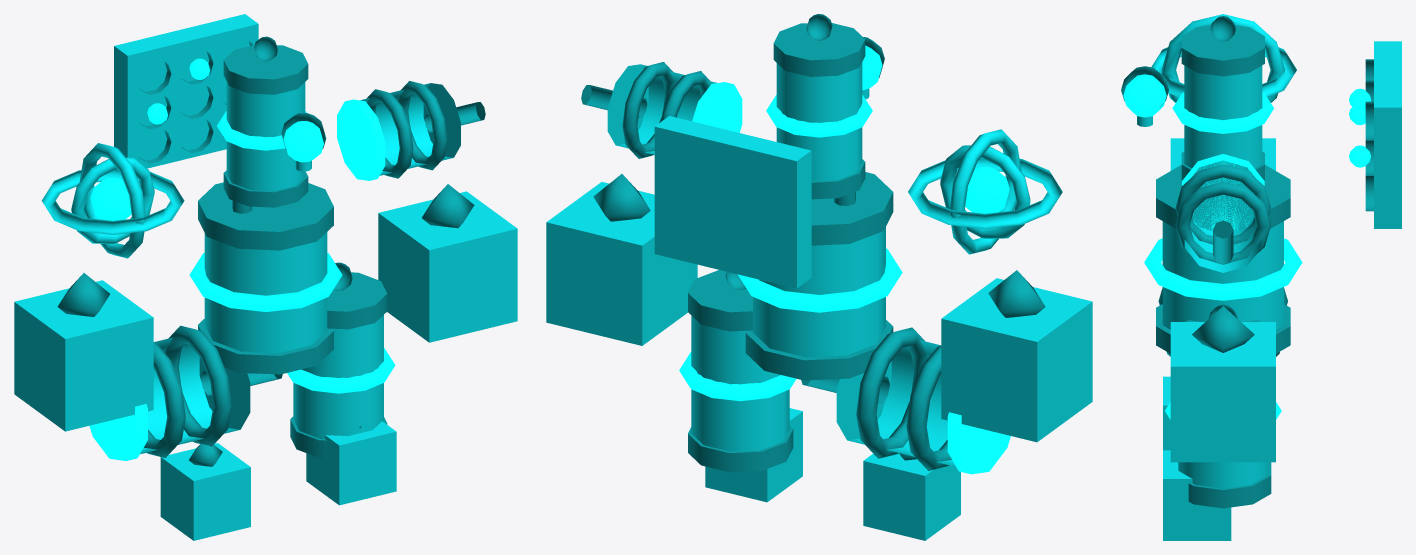
Rendered from golem_106.glb.
3 views of the same model, side by side, from view 1: azimuth 30°, elevation 25°; view 2: azimuth 150°, elevation 25°; view 3: azimuth 270°, elevation 25° (orthographic). The views are drawn at different scales.
Parts seen in each view (by area): view 1: Body, Detail, Glow; view 2: Body, Detail, Glow; view 3: Body, Detail, Glow.
Part boxes in pixels (x1,y1,x2,y2): Body: (14, 14, 517, 540); Detail: (57, 36, 485, 466); Glow: (89, 58, 395, 460); Body: (546, 62, 1092, 540); Detail: (581, 14, 1045, 472); Glow: (679, 45, 1010, 474); Body: (1137, 14, 1401, 540); Detail: (1121, 16, 1373, 508); Glow: (1123, 74, 1370, 419).
Bounding box in the file's own units: 1.28 × 1.24 × 0.6658.
